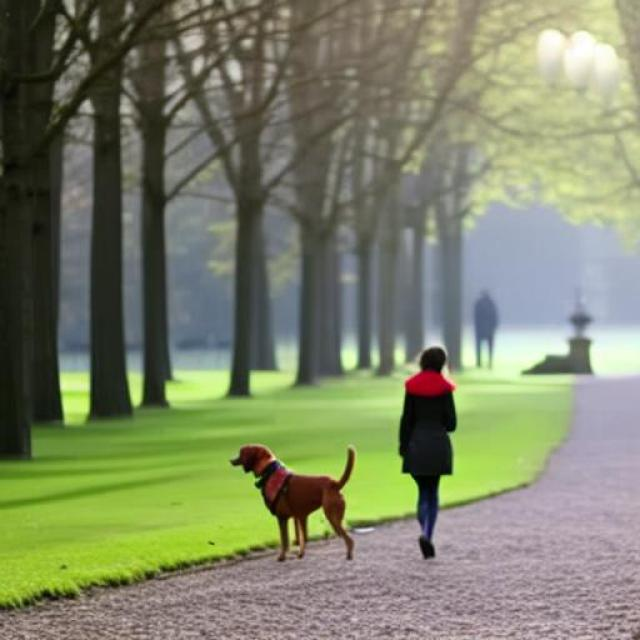Unleashed_Dog: (230, 430, 446, 562)
